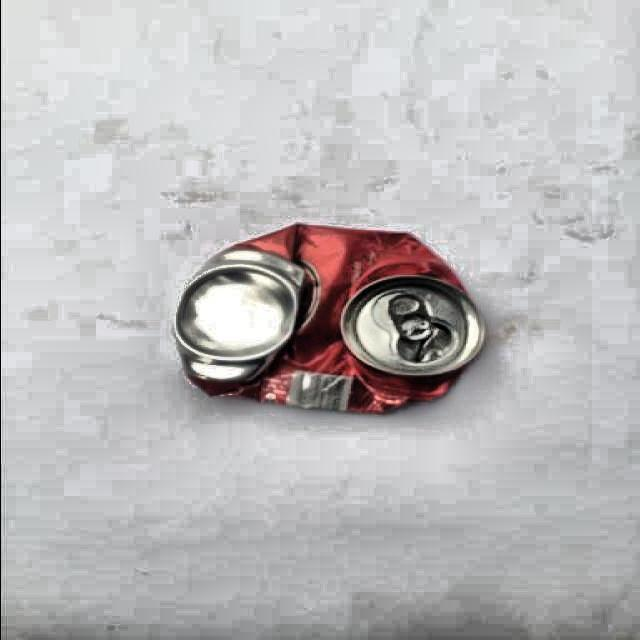metal: (174, 224, 488, 416)
